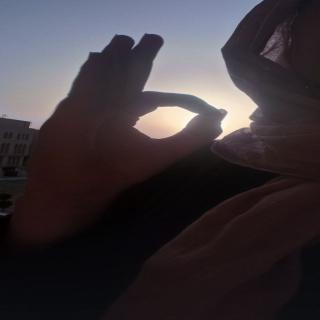Space: (33, 33, 230, 189)
